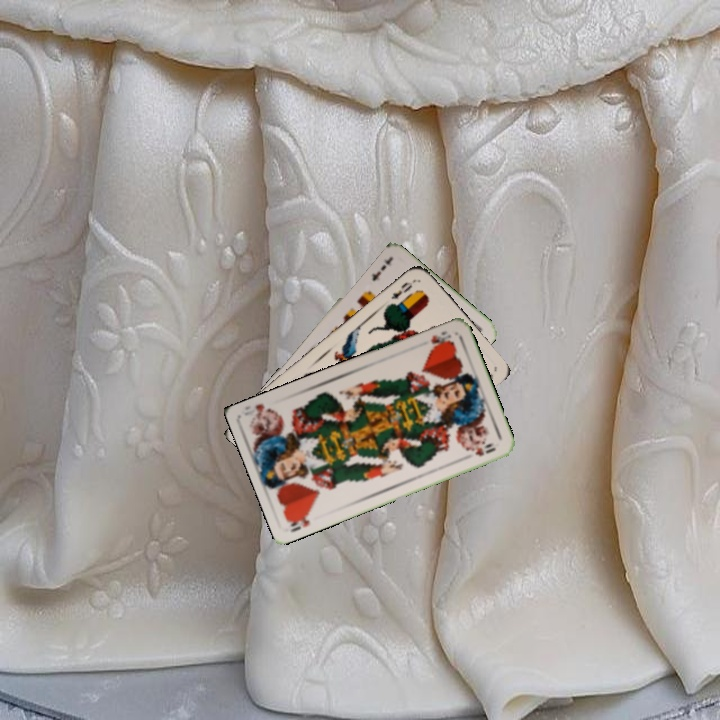E7: (367, 260, 389, 283)
EO: (387, 275, 418, 302)
HO: (283, 508, 314, 535), (427, 327, 456, 351)
